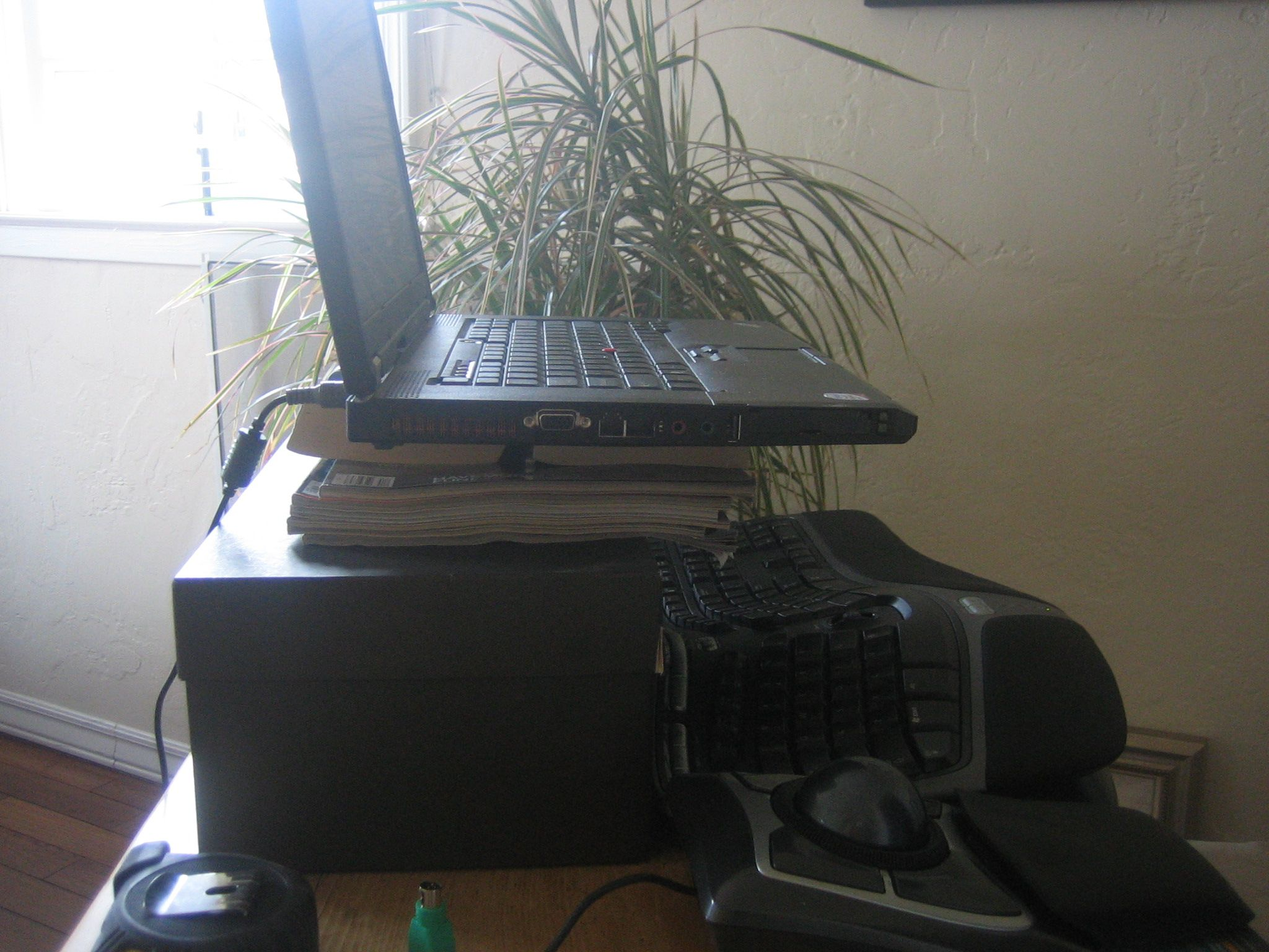not a gesture sign: (433, 317, 701, 390)
